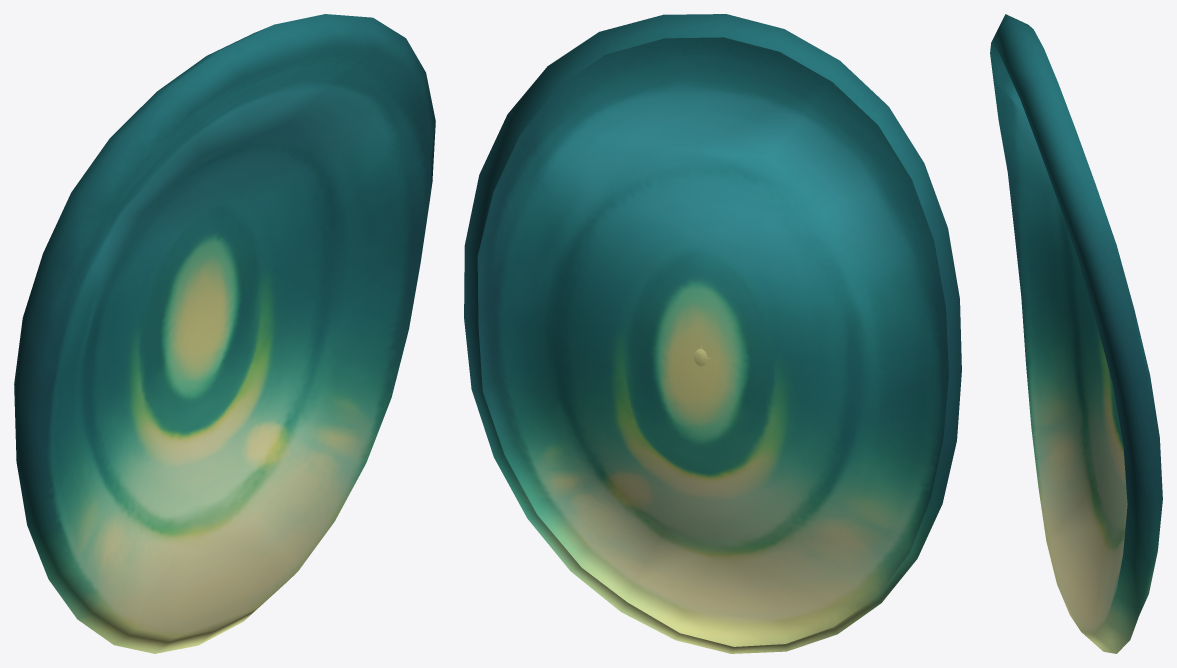
The model's file is rinEyes.obj.
3 renders of one model, left to right at view 1: azimuth 30°, elevation 25°; view 2: azimuth 150°, elevation 25°; view 3: azimuth 270°, elevation 25°, orthographic. The views are drawn at different scales.
Bounding box in the file's own units: 6.33 × 8.23 × 2.1.
1 material, 1 textured.
